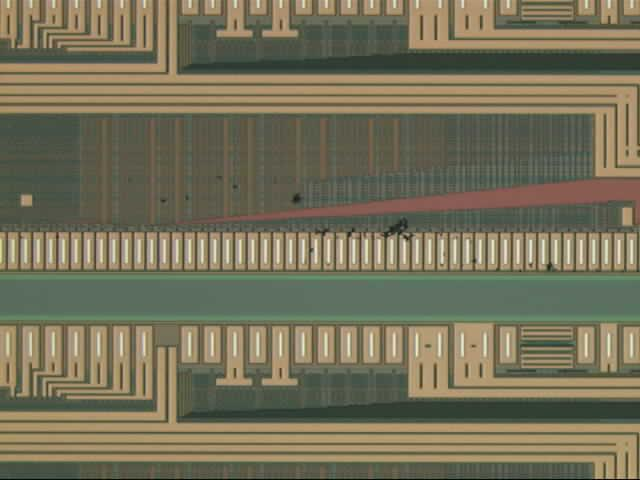PO CONTAMINATION: (155, 169, 560, 277)
